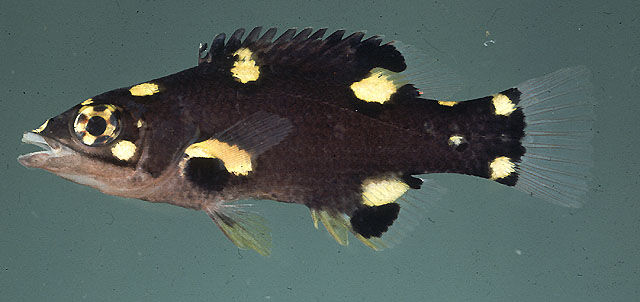fish: (17, 26, 596, 256)
